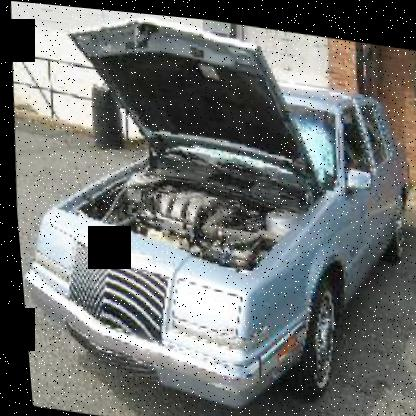not_emergency: (18, 4, 415, 415)
